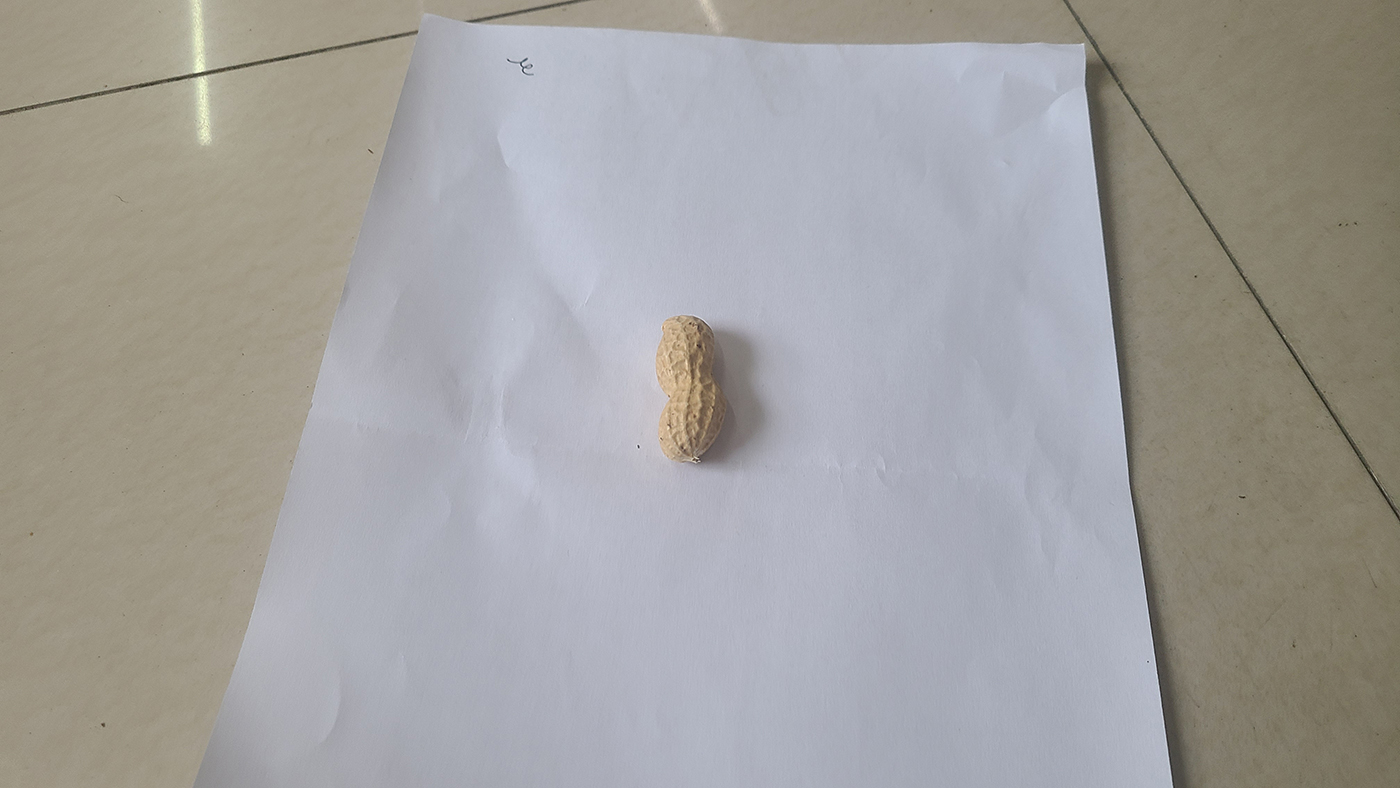h: (654, 315, 727, 465)
